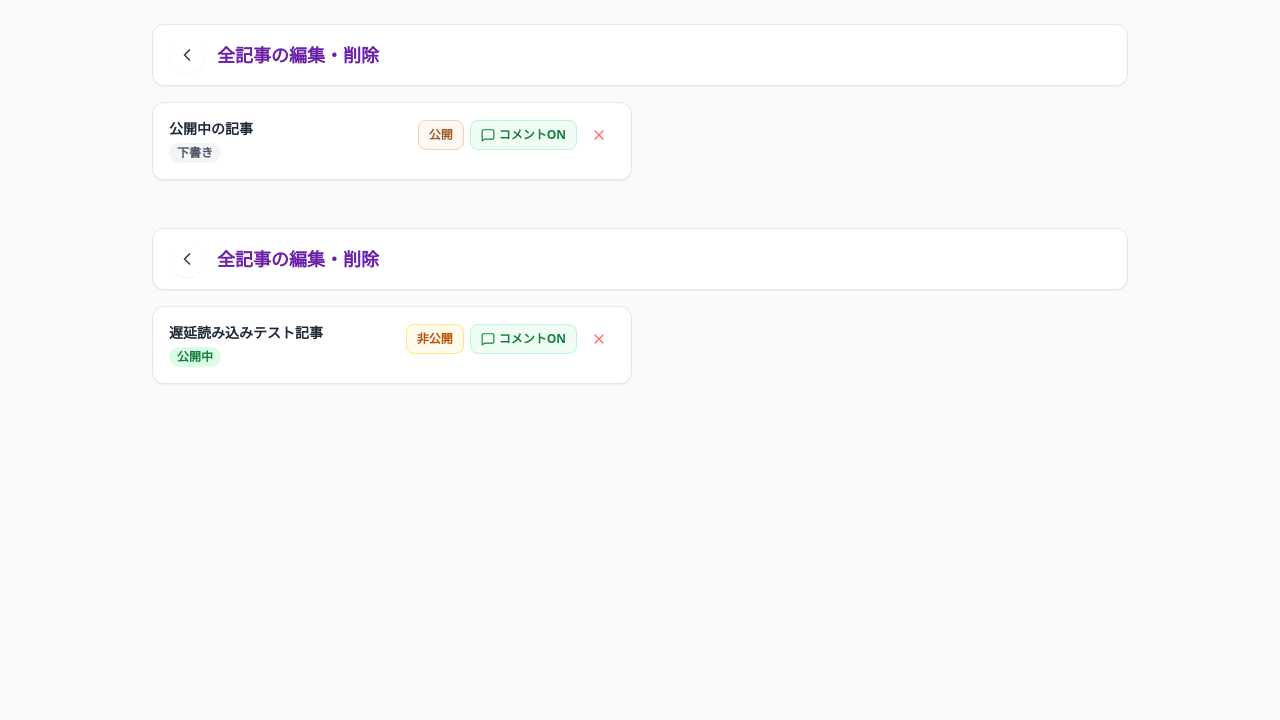
it: EditorArticlesView › lazy loads article content when opening inline preview
Click the button "遅延読み込みテスト記事 公開中": (281, 345) [169, 323, 394, 367]
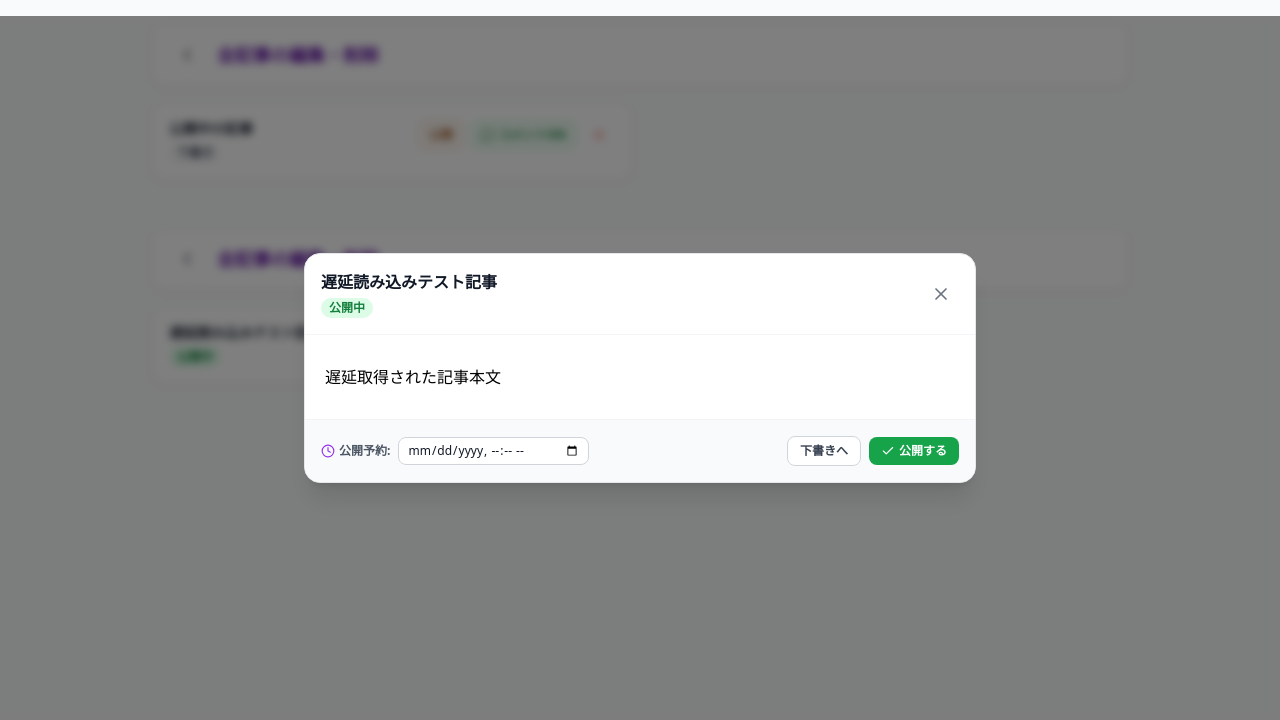
Expected: the text "遅延取得された記事本文" is shown, [325, 366, 501, 388]
